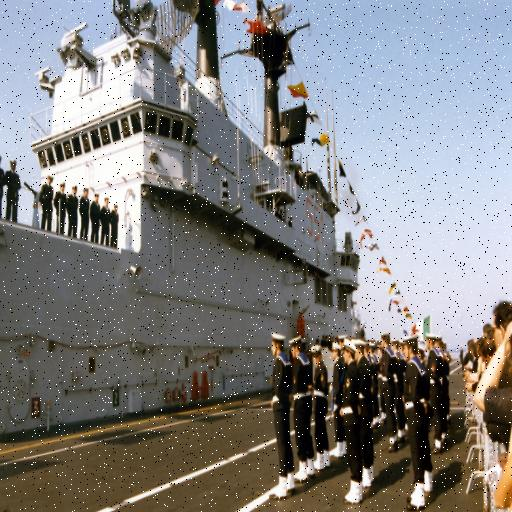Portanaves: (1, 1, 380, 447)
